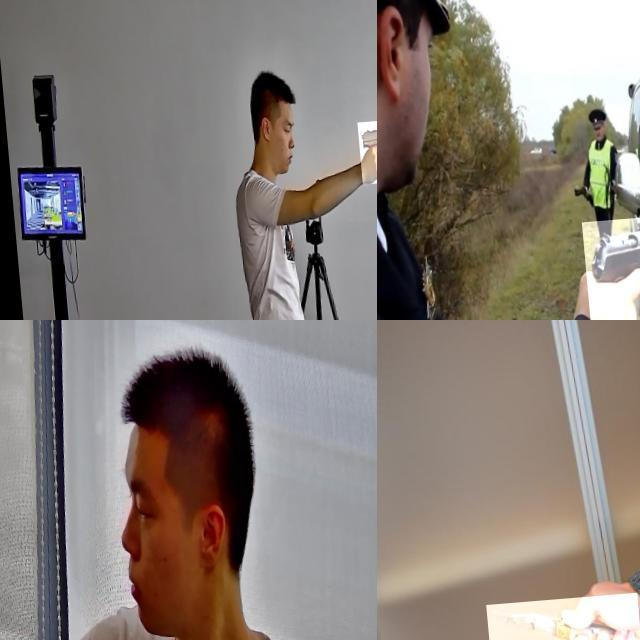-: (480, 599, 636, 640)
gun-knife-thesis - v11 Yolov5 augmented: (0, 368, 66, 601), (575, 222, 640, 320), (354, 125, 377, 190)
